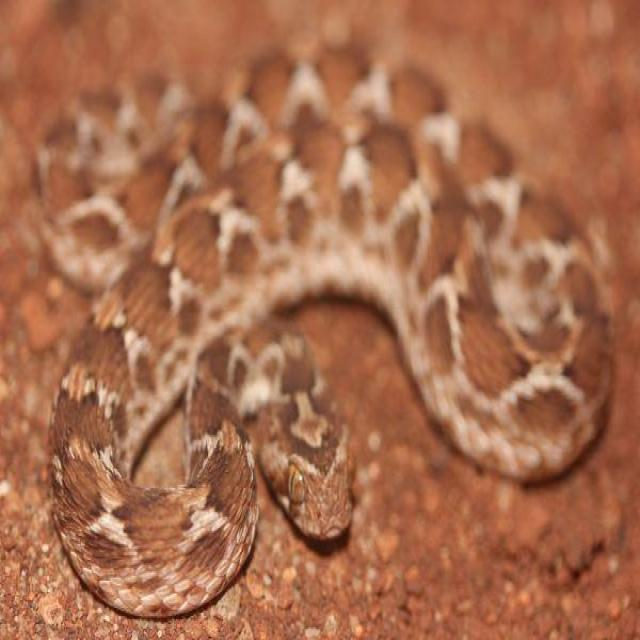Snake: (35, 37, 617, 619)
